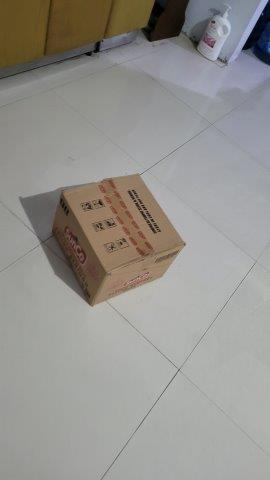kardus: (56, 174, 185, 303)
